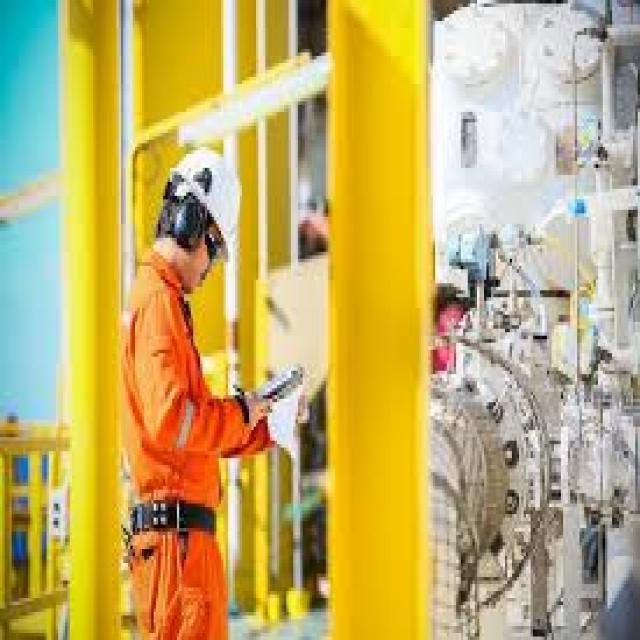vest: (120, 242, 250, 640)
